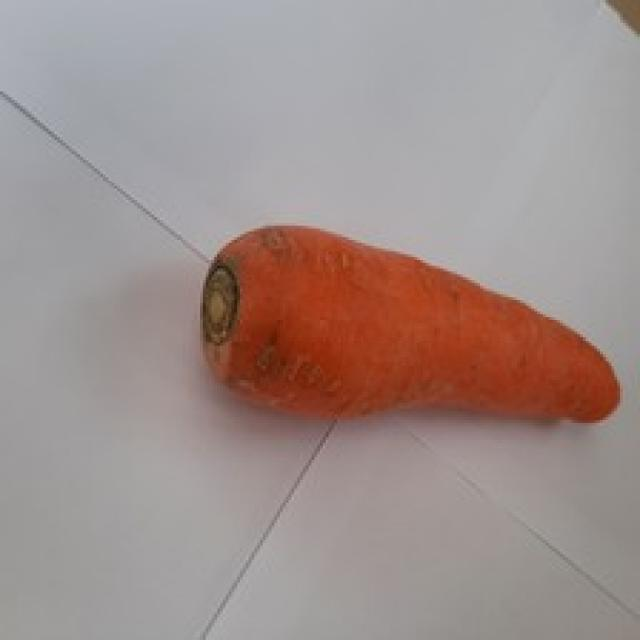carrot: (202, 226, 620, 421)
